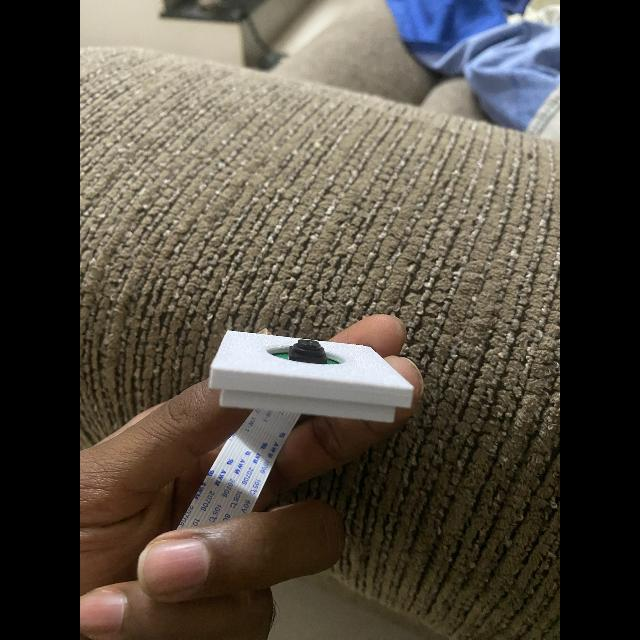RASPBERY PI CAM ENCLOSURE: (208, 330, 414, 422)
